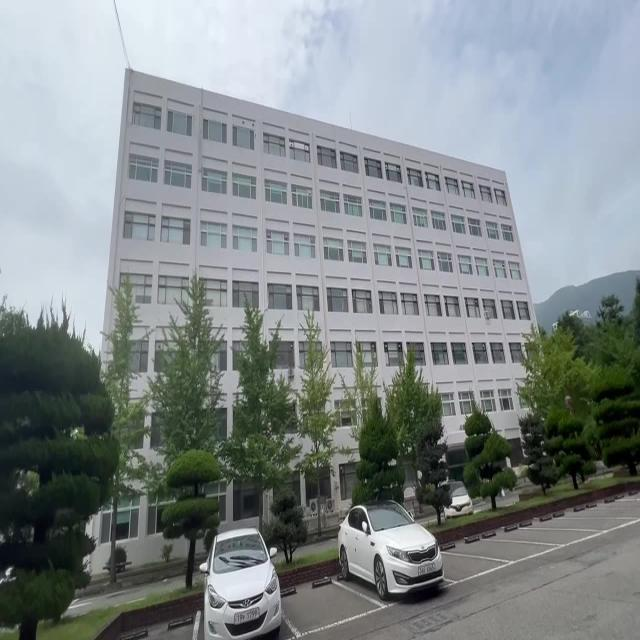building: (106, 75, 526, 313)
